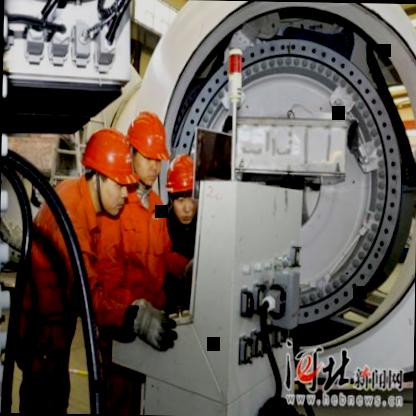helmet: (82, 124, 136, 210), (123, 108, 171, 188), (163, 146, 199, 232)
